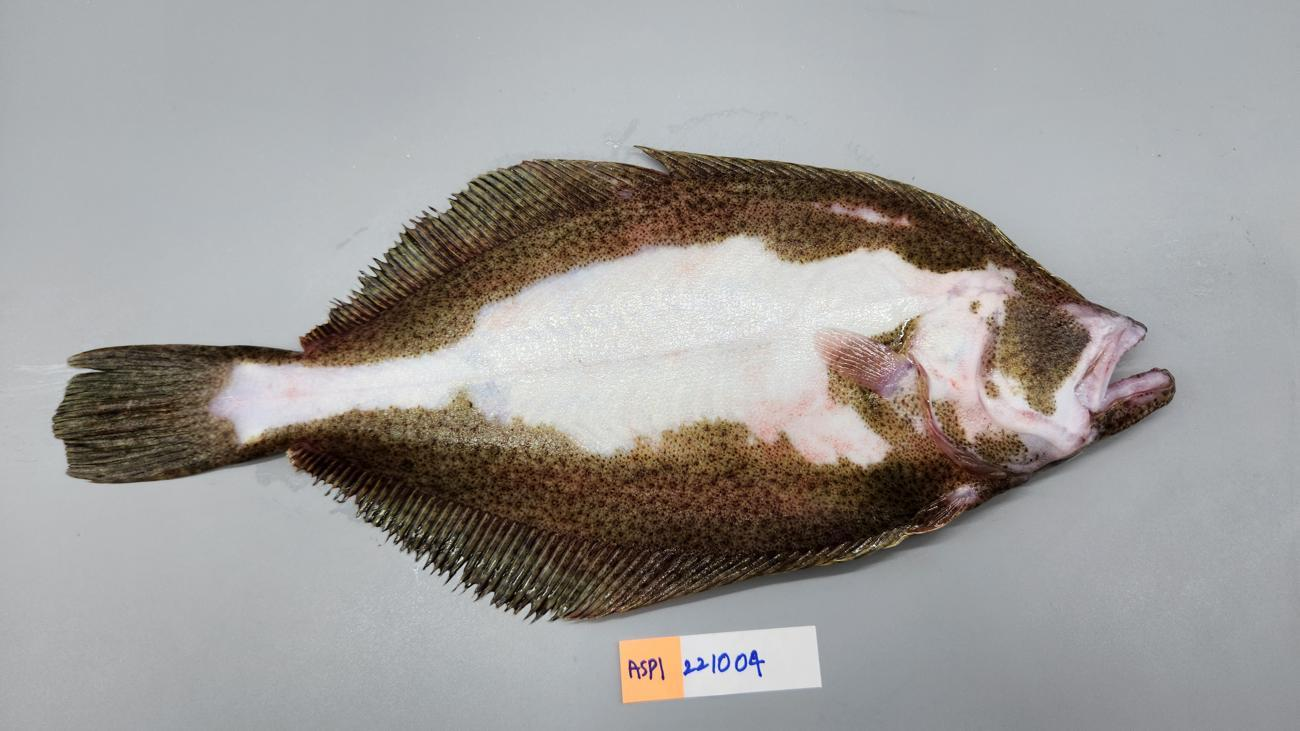SPDYH: (271, 371, 315, 412)
SPOUY: (44, 139, 1184, 624)
